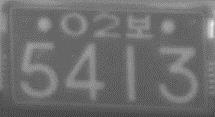0: (59, 10, 88, 36)
1: (114, 45, 148, 102)
2: (92, 11, 120, 38)
3: (158, 45, 198, 104)
4: (64, 42, 105, 100)
5: (18, 41, 57, 96)
보: (125, 14, 154, 39)
